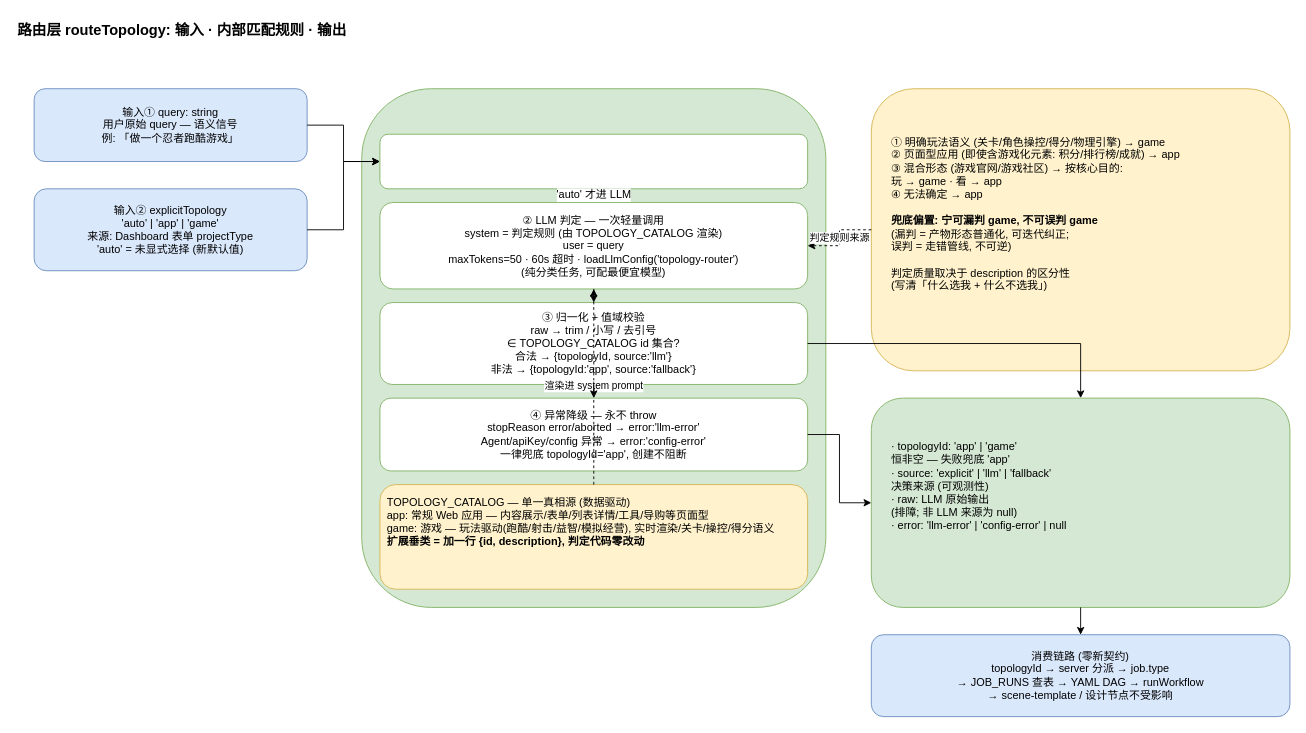
Some shapes in this 1306 by 733 pixel diagram are drawn without their labels. The shapes that lost their labels are listed below. From the top down, each one's box as (x1, y1, x2, y2) in pixels, then its label:
(379, 133, 808, 189): ① 显式短路 explicitTopology ≠ 'auto' → {topologyId=显式值, source:'explicit'} 零 LLM
(870, 88, 1290, 371): 匹配规则 — LLM system prompt 的边界判定
(361, 88, 826, 607): routeTopology 内部执行 — L7 scene-template-node/src/services/topology-router.ts
(870, 397, 1290, 607): 输出 RouteTopologyResult
